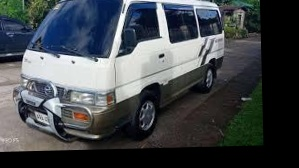van: (17, 0, 229, 136)
